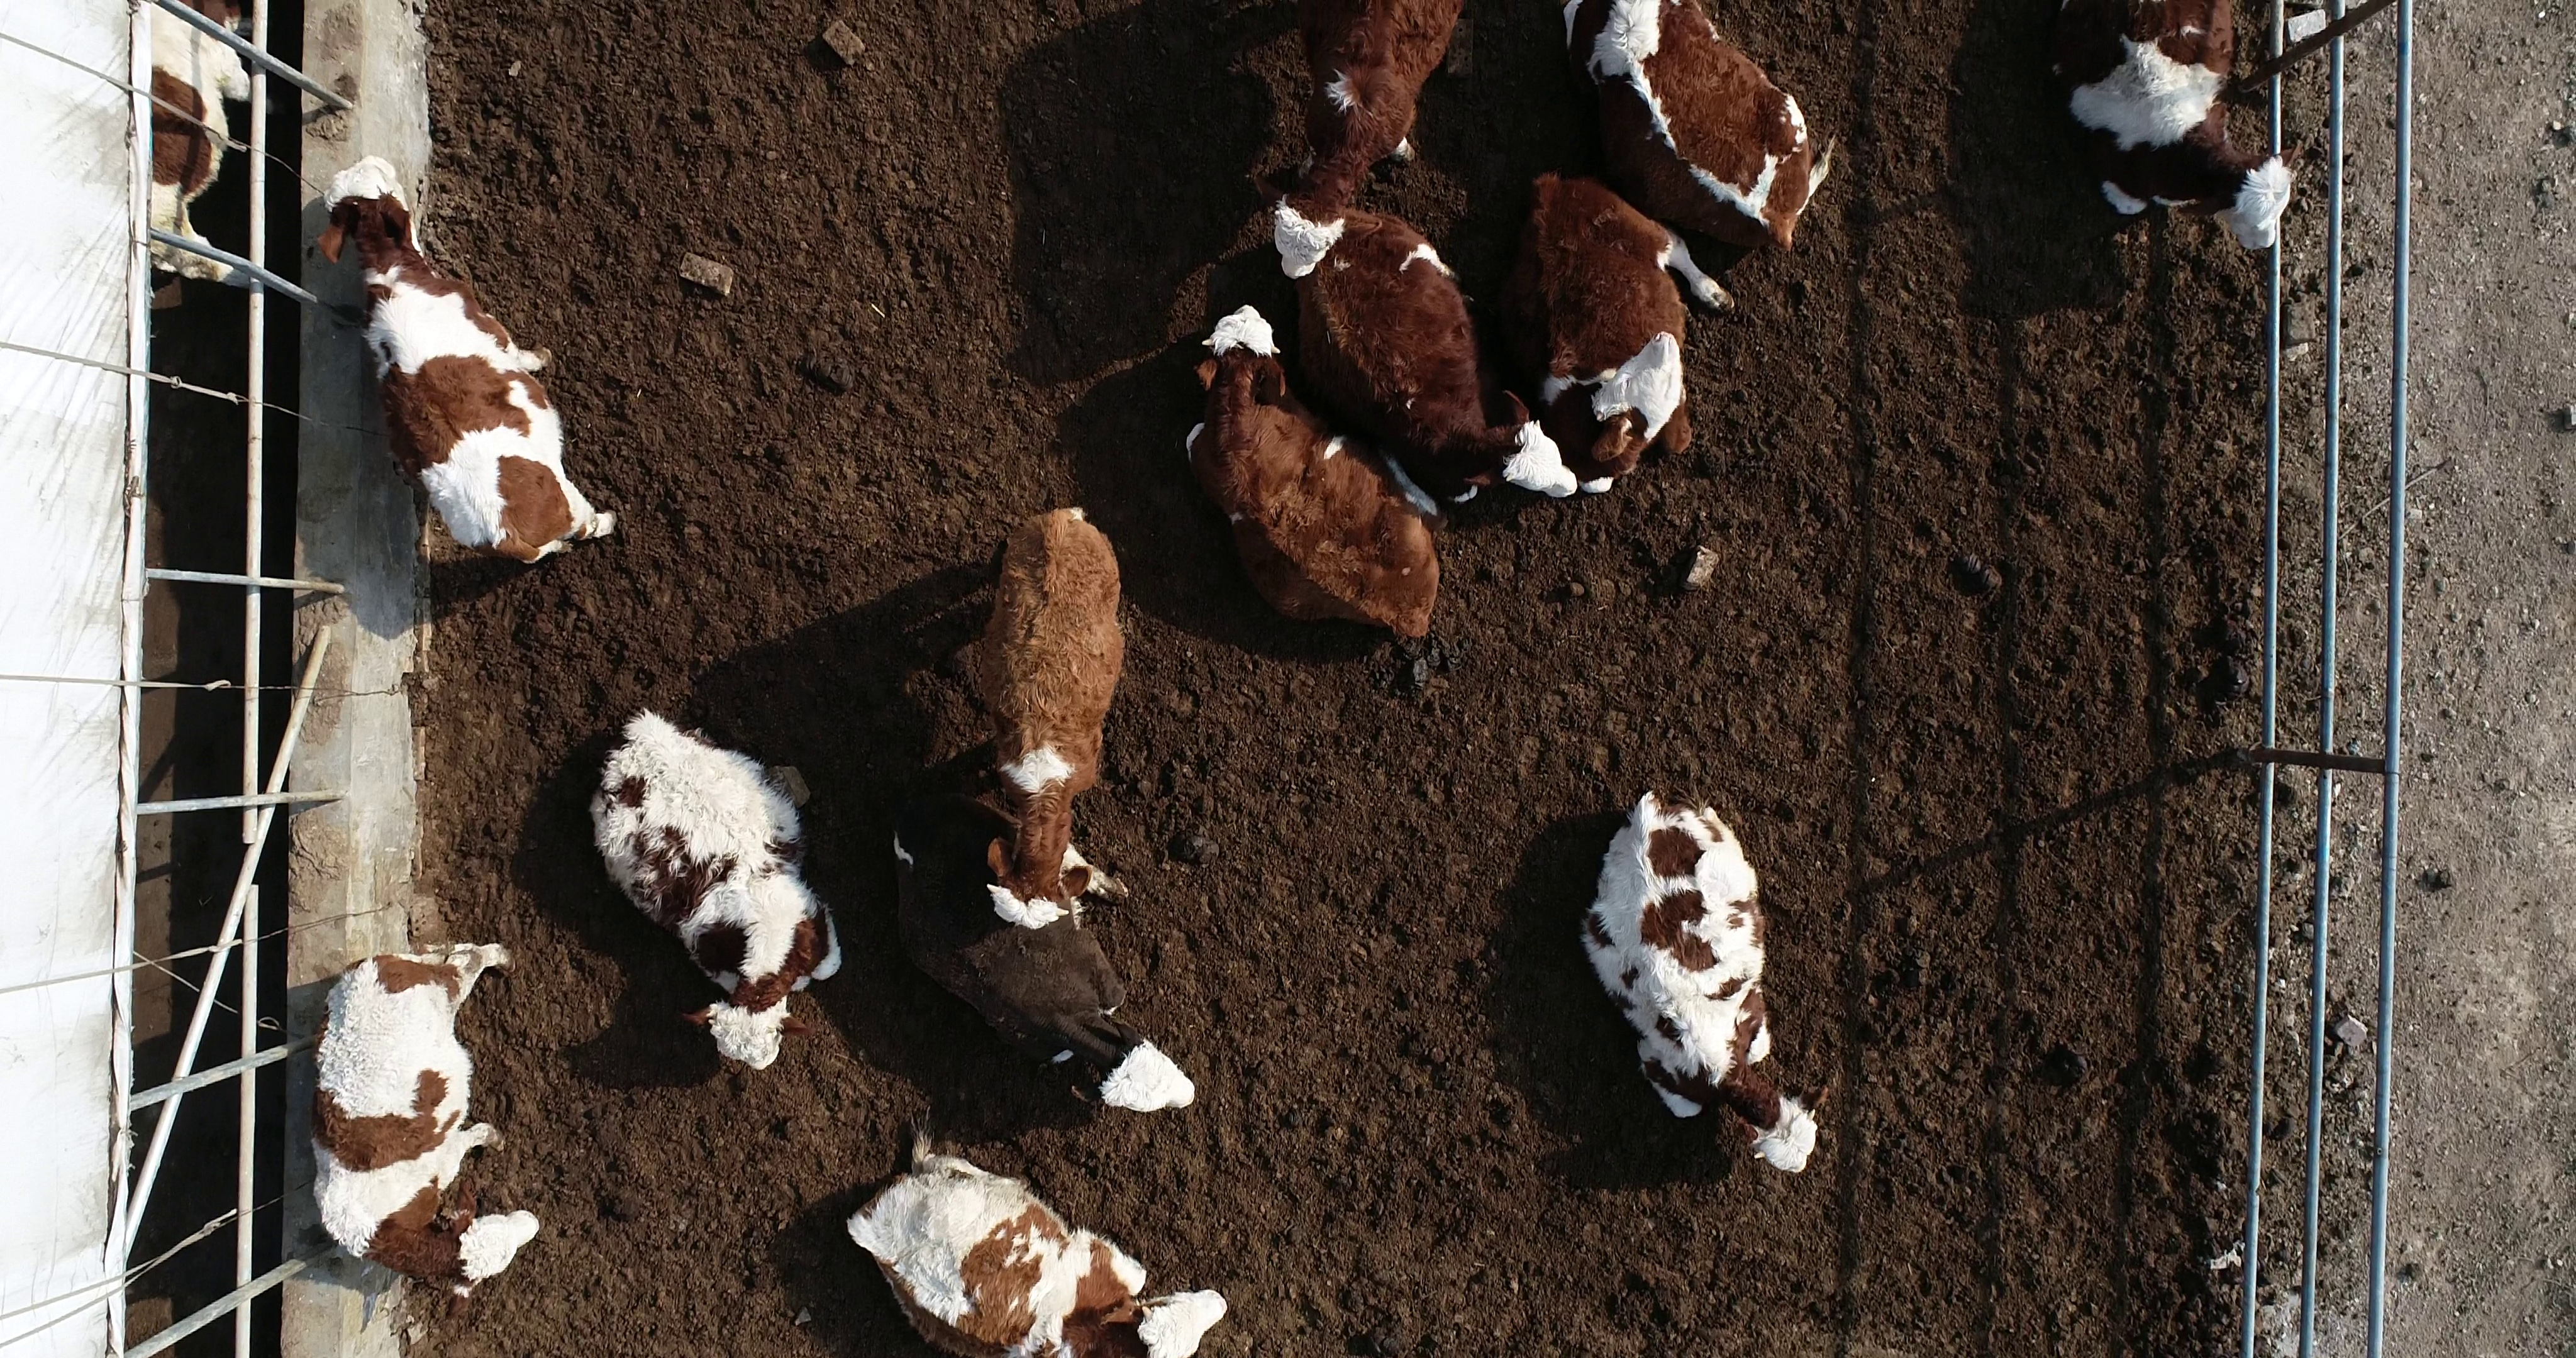cattle: (315, 150, 625, 576), (1576, 785, 1833, 1179), (1167, 298, 1443, 651), (968, 498, 1136, 934)
